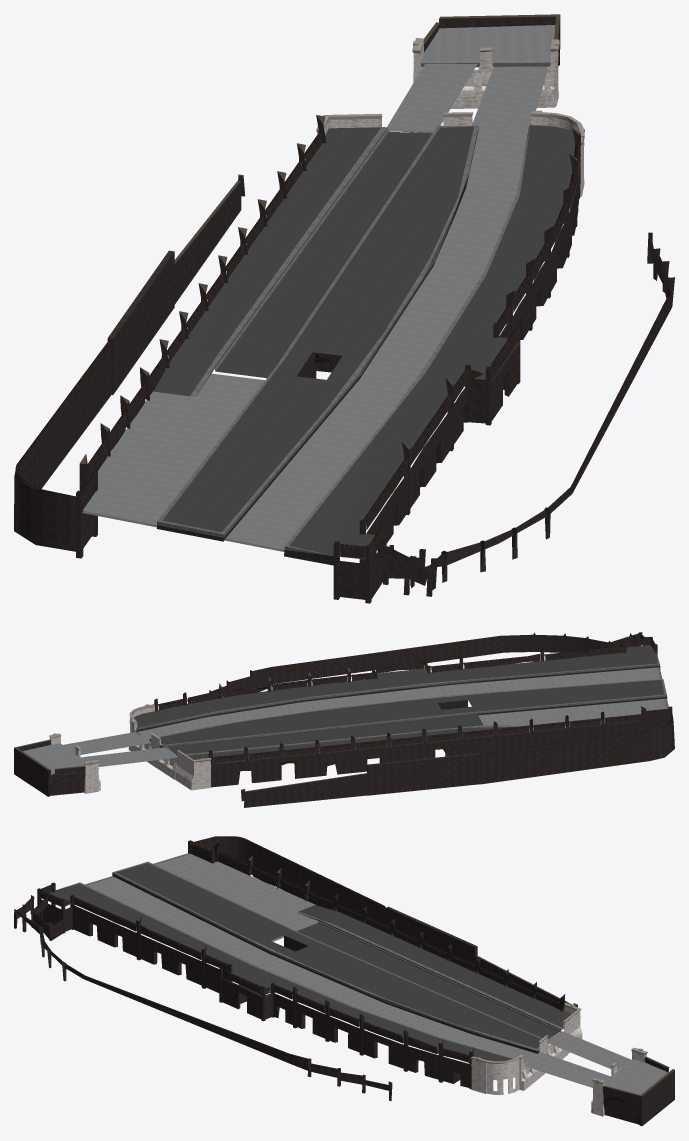
File: FriargateTrainstation_test.gltf
3 renders of one model, top to bottom at view 1: azimuth 30°, elevation 25°; view 2: azimuth 150°, elevation 25°; view 3: azimuth 270°, elevation 25°, orthographic. The views are drawn at different scales.
Visible parts, largest first — view 1: StaticMeshActor_7_StaticMeshComponent0, SM_FriarGate_BridgeStructure_LimeStoneWalls_2708_StaticMeshC; view 2: StaticMeshActor_7_StaticMeshComponent0, SM_FriarGate_BridgeStructure_LimeStoneWalls_2708_StaticMeshC; view 3: StaticMeshActor_7_StaticMeshComponent0, SM_FriarGate_BridgeStructure_LimeStoneWalls_2708_StaticMeshC.
Boxes of the visible parts, bbox=[...] form: StaticMeshActor_7_StaticMeshComponent0: bbox=[14, 14, 674, 603]; SM_FriarGate_BridgeStructure_LimeStoneWalls_2708_StaticMeshC: bbox=[316, 38, 584, 196]; StaticMeshActor_7_StaticMeshComponent0: bbox=[14, 632, 674, 807]; SM_FriarGate_BridgeStructure_LimeStoneWalls_2708_StaticMeshC: bbox=[49, 704, 211, 793]; StaticMeshActor_7_StaticMeshComponent0: bbox=[14, 836, 674, 1126]; SM_FriarGate_BridgeStructure_LimeStoneWalls_2708_StaticMeshC: bbox=[470, 1003, 647, 1116].
Size of the model in its own units: 140 by 13.22 by 151.
Materials: 8 (8 with a texture image).
